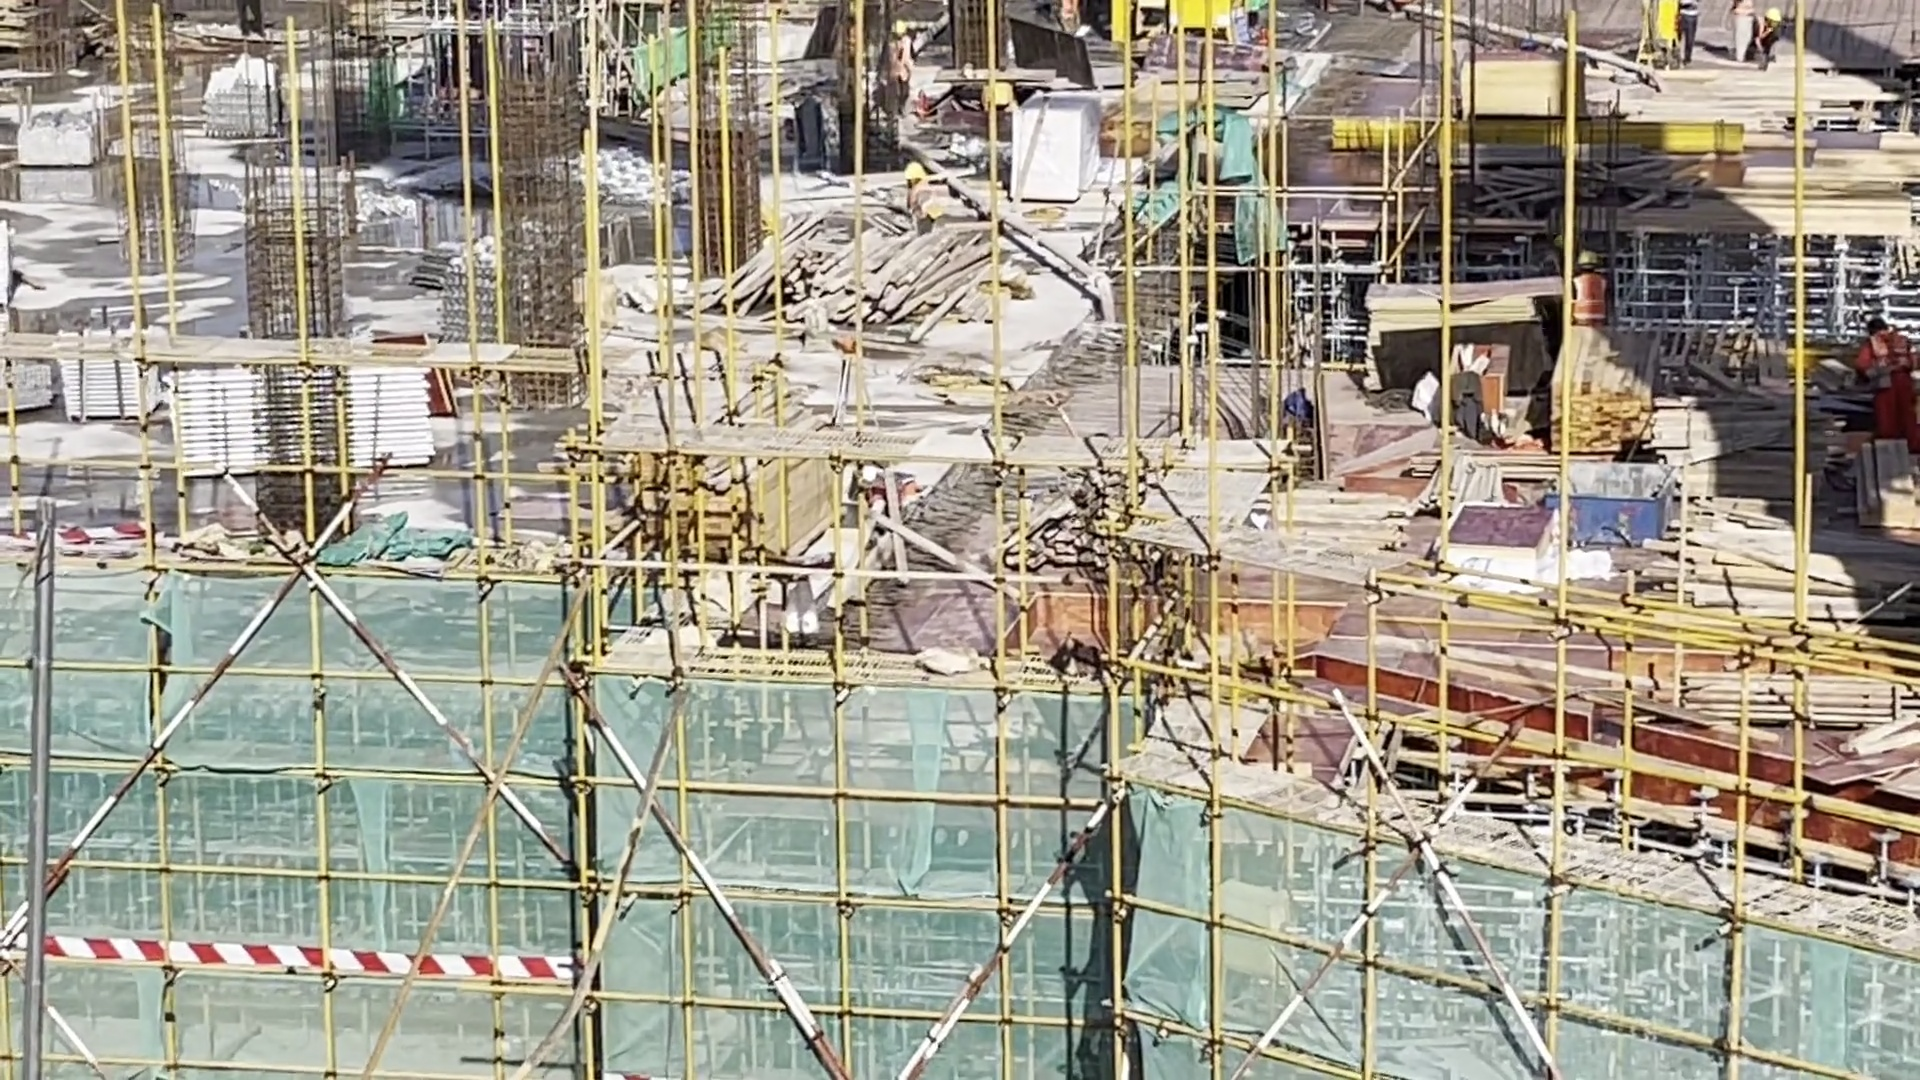helmet: (892, 150, 925, 182), (1863, 314, 1889, 346), (1578, 250, 1603, 272), (883, 20, 904, 42)
hopper: (1532, 455, 1696, 572)
person: (1852, 312, 1907, 434), (873, 19, 927, 106), (1569, 248, 1615, 325), (901, 166, 939, 221), (1755, 6, 1780, 62)
scaffold: (152, 346, 412, 482), (193, 35, 285, 131), (56, 316, 145, 409)
vest: (1861, 342, 1906, 408), (1574, 274, 1607, 320)
wood: (596, 360, 851, 585), (709, 213, 1015, 357), (1678, 657, 1911, 739), (1554, 335, 1654, 457)
